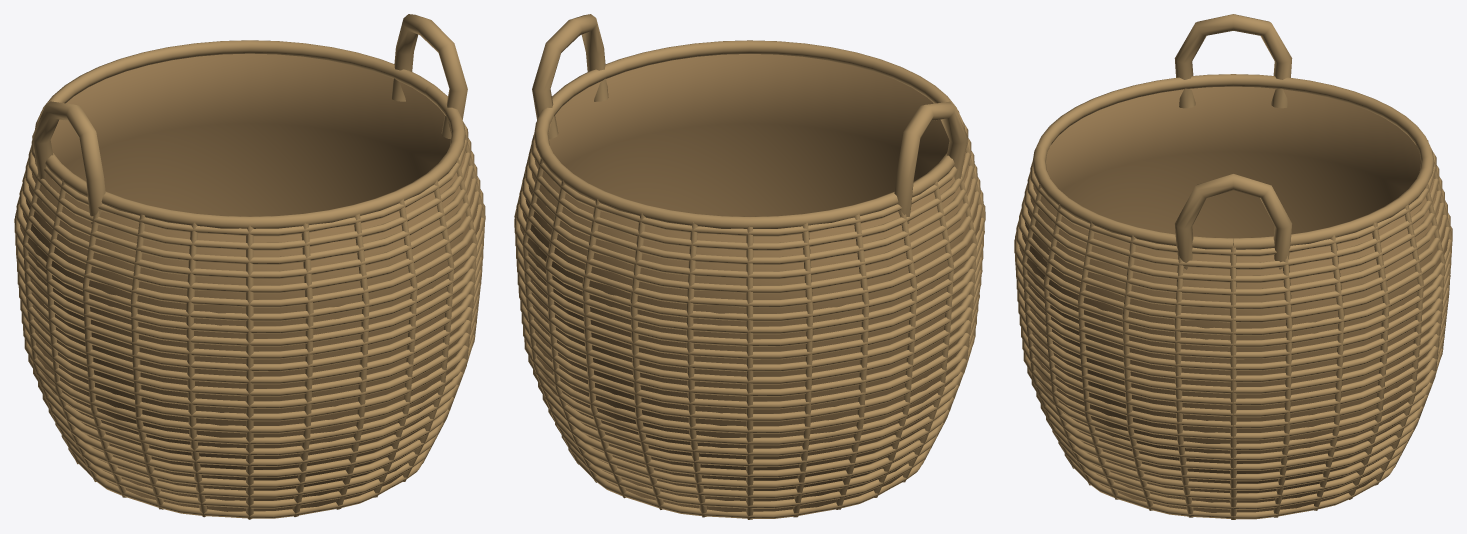
Rendered from woven-basket.glb.
3 renders of one model, left to right at view 1: azimuth 30°, elevation 25°; view 2: azimuth 150°, elevation 25°; view 3: azimuth 270°, elevation 25°, orthographic. The views are drawn at different scales.
Visible parts, largest first — view 1: catalog_surface_RealismUV; view 2: catalog_surface_RealismUV; view 3: catalog_surface_RealismUV.
Boxes of the visible parts, x1,y1,x2,y2 form: catalog_surface_RealismUV: (14,14,485,519); catalog_surface_RealismUV: (514,14,985,519); catalog_surface_RealismUV: (1014,14,1452,519).
Size of the model in its own units: 0.4 by 0.368 by 0.4.
